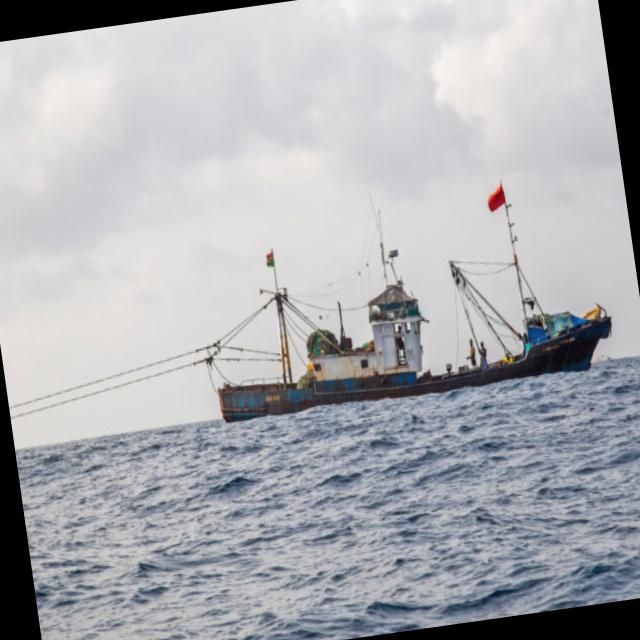boat: (168, 137, 640, 488)
